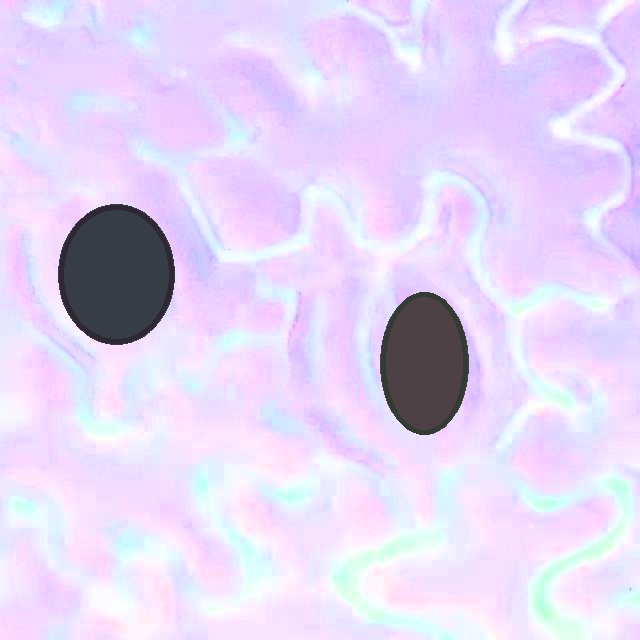open: (58, 204, 173, 344), (380, 292, 468, 434)
